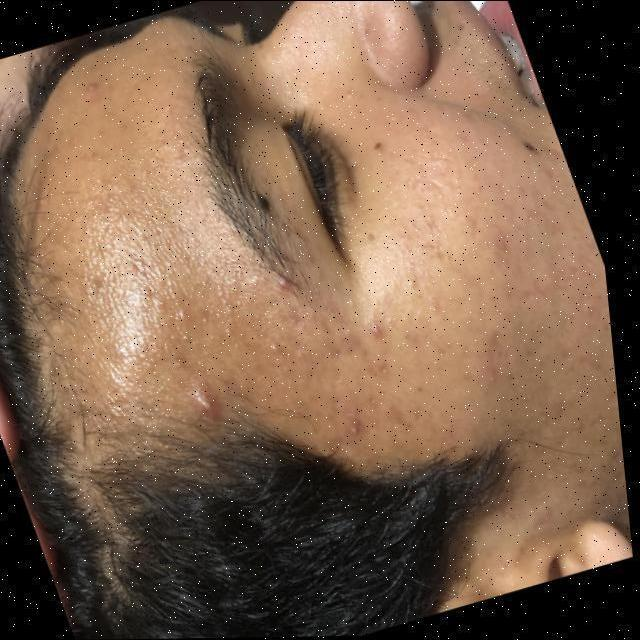Acne: (163, 298, 497, 438)
